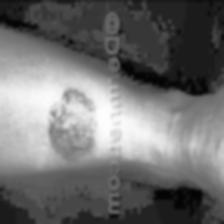Toxin: (50, 82, 94, 162)
